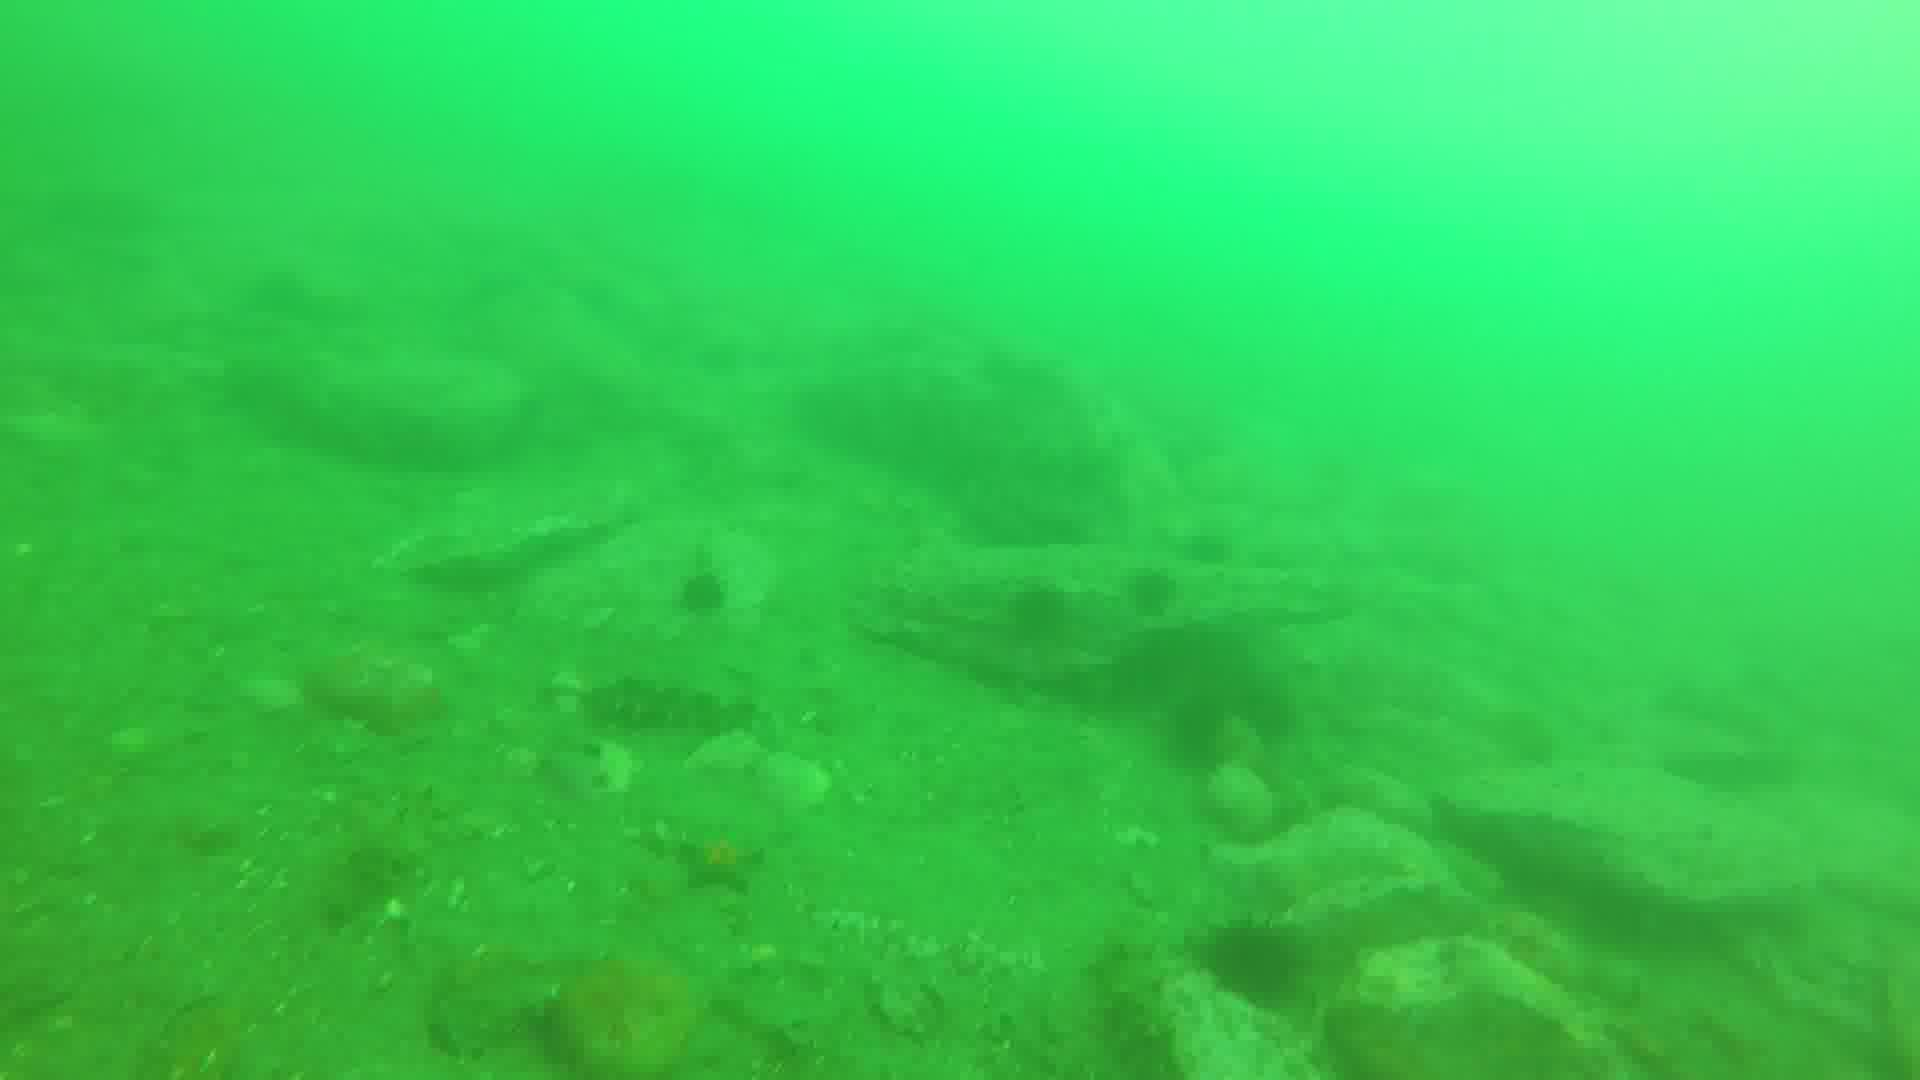echinus: (1200, 916, 1316, 1011), (1176, 698, 1228, 762), (1011, 585, 1071, 637), (1125, 566, 1172, 617), (686, 570, 727, 611)
holothurian: (326, 794, 436, 936), (585, 675, 757, 742), (1095, 935, 1174, 1047)
starfish: (682, 828, 762, 894)
